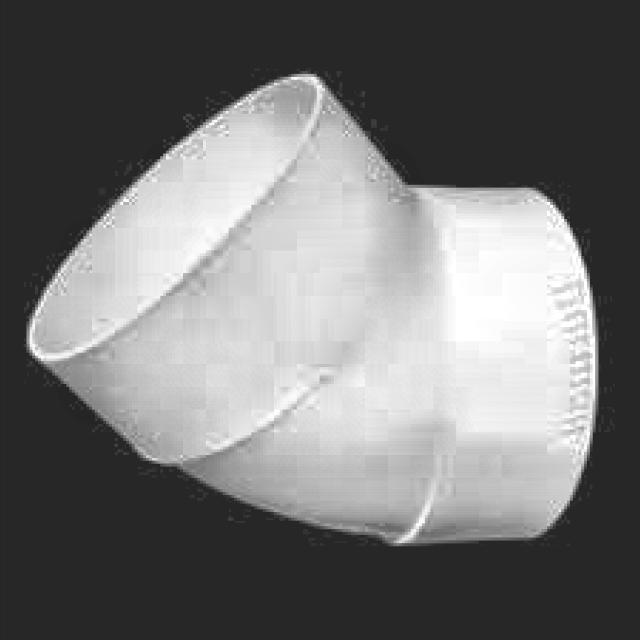ELBOW45: (26, 71, 600, 549)
